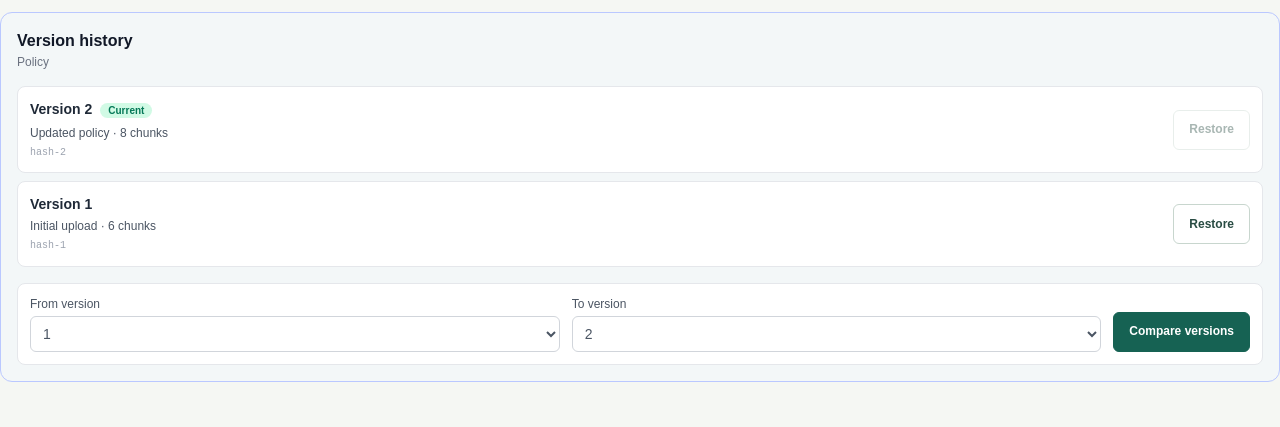
Test: DocumentVersionPanel › restores a prior version and refreshes history
Click the button with aria-label "restore version": click(1212, 224) x1=1173 y1=204 x2=1250 y2=244
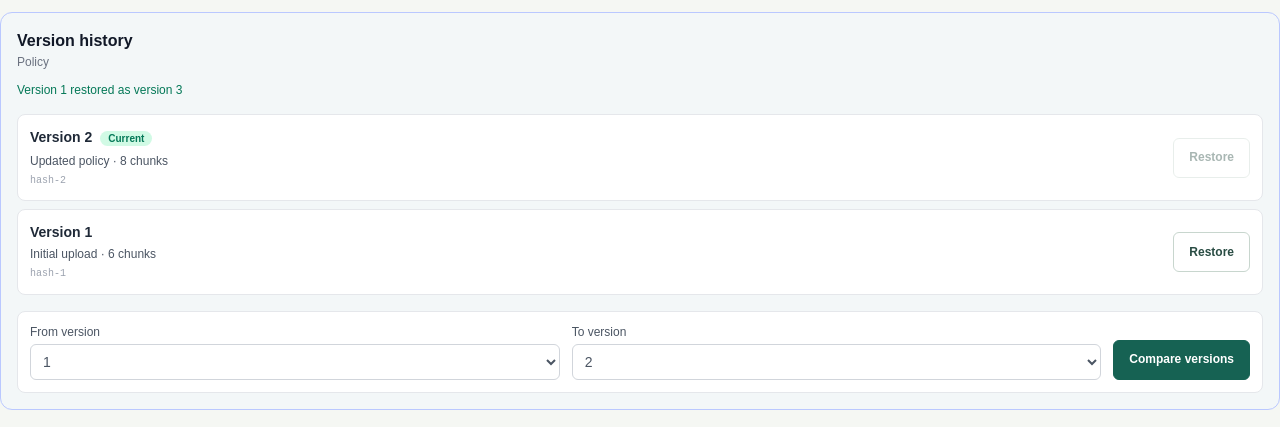
Result: the message reads "Version 1 restored as version 3" at x1=17 y1=83 x2=182 y2=97
